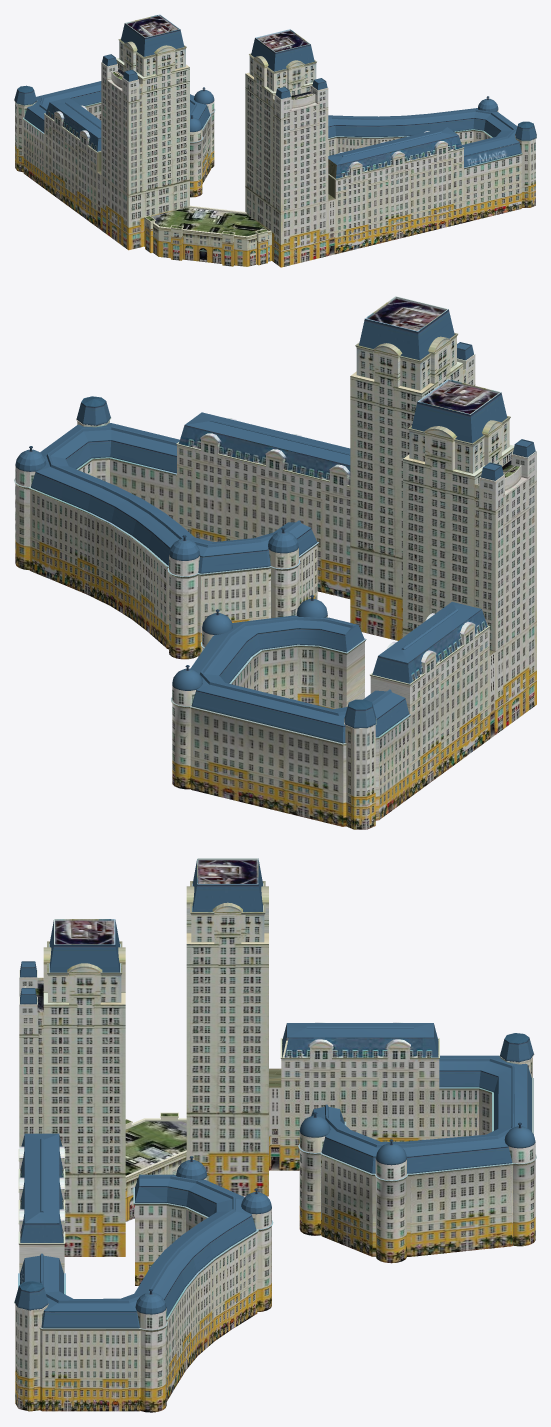
3 views of the same model, one above another, from view 1: azimuth 30°, elevation 25°; view 2: azimuth 150°, elevation 25°; view 3: azimuth 270°, elevation 25° (orthographic). The views are drawn at different scales.
Visible parts, largest first — view 1: HN1341_TheManor; view 2: HN1341_TheManor; view 3: HN1341_TheManor.
Boxes of the visible parts, bbox=[...] form: HN1341_TheManor: bbox=[14, 14, 536, 267]; HN1341_TheManor: bbox=[14, 296, 536, 829]; HN1341_TheManor: bbox=[14, 858, 536, 1412].
Size of the model in its own units: 205 by 111 by 172.
Materials: 1 (1 with a texture image).
